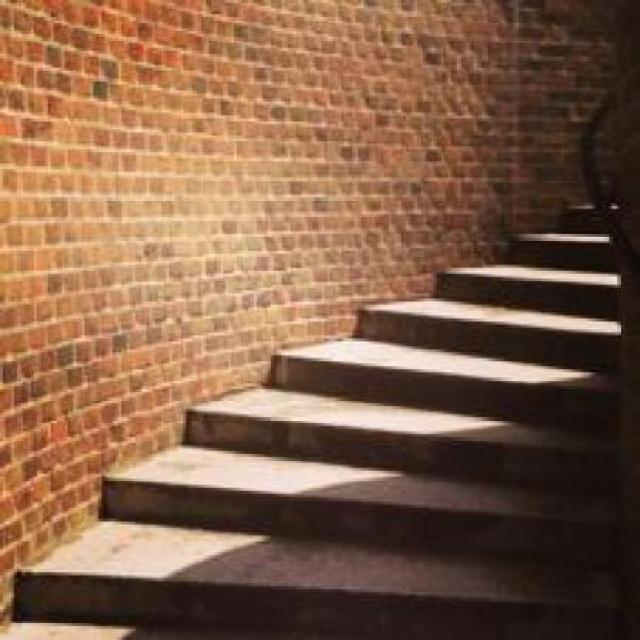stair: (43, 398, 517, 618)
